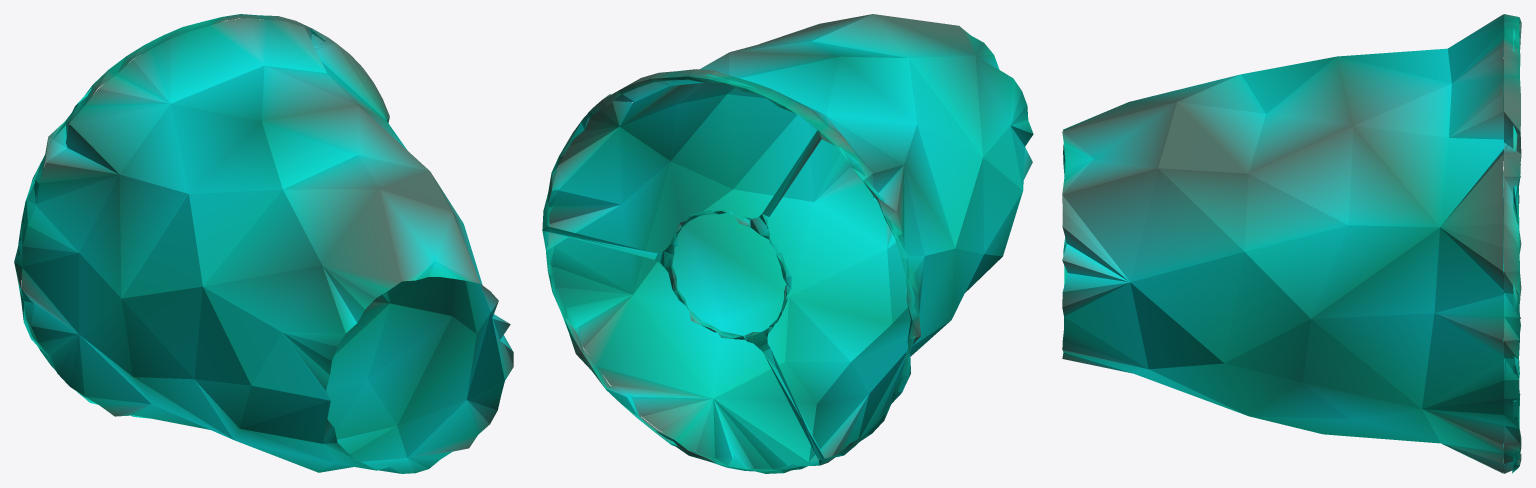
File: lamp_shade_2_final100.obj
3 views of the same model, side by side, from view 1: azimuth 30°, elevation 25°; view 2: azimuth 150°, elevation 25°; view 3: azimuth 270°, elevation 25° (orthographic). The views are drawn at different scales.
Size of the model in its own units: 1.11 by 1.1 by 1.11.
